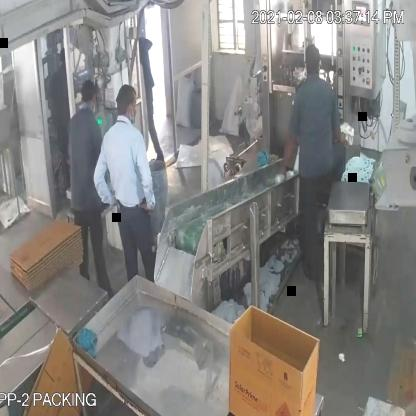no_glove: (273, 120, 301, 188)
